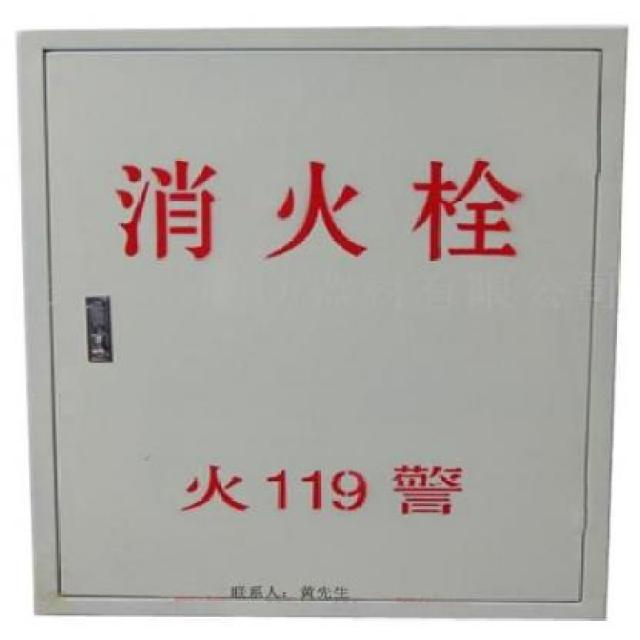firehydrant: (11, 21, 632, 624)
